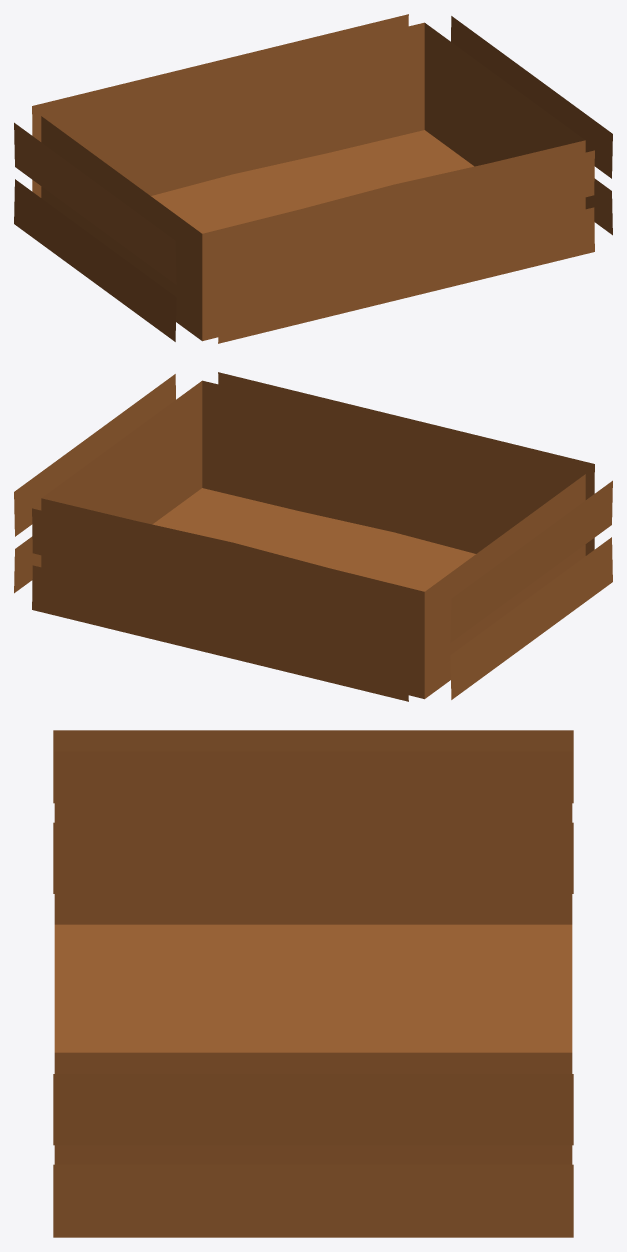
File: n2_chest_bottom_light_brown_0_lev2.001.glb
The picture shows the model from 3 angles, top to bottom: view 1: azimuth 30°, elevation 25°; view 2: azimuth 150°, elevation 25°; view 3: azimuth 270°, elevation 25°; orthographic projection. The views are drawn at different scales.
Visible parts, largest first — view 1: n2_chest_bottom_light_brown_0_lev2.001; view 2: n2_chest_bottom_light_brown_0_lev2.001; view 3: n2_chest_bottom_light_brown_0_lev2.001.
Part boxes in pixels (bbox=[...]): n2_chest_bottom_light_brown_0_lev2.001: bbox=[14, 14, 612, 343]; n2_chest_bottom_light_brown_0_lev2.001: bbox=[14, 372, 612, 701]; n2_chest_bottom_light_brown_0_lev2.001: bbox=[53, 730, 573, 1237].
Size of the model in its own units: 1.16 by 0.2775 by 0.8519.
